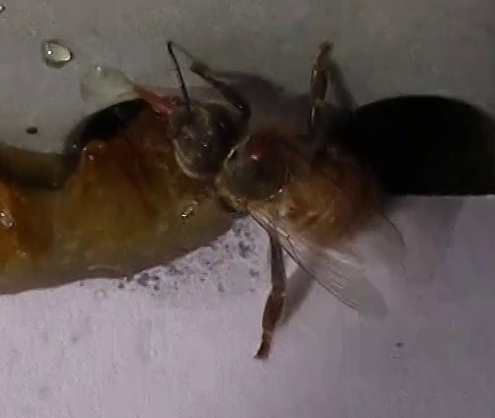Varroa destructor: (239, 129, 285, 168)
